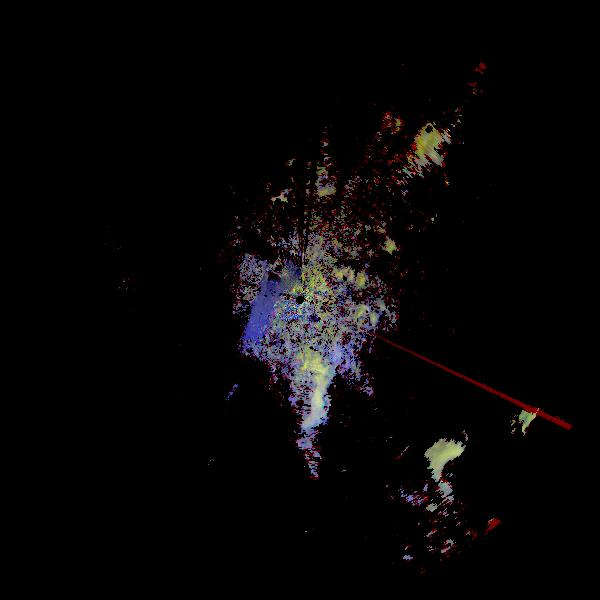roost: (241, 333, 352, 444), (428, 438, 491, 501), (240, 149, 303, 212), (514, 401, 571, 458)
